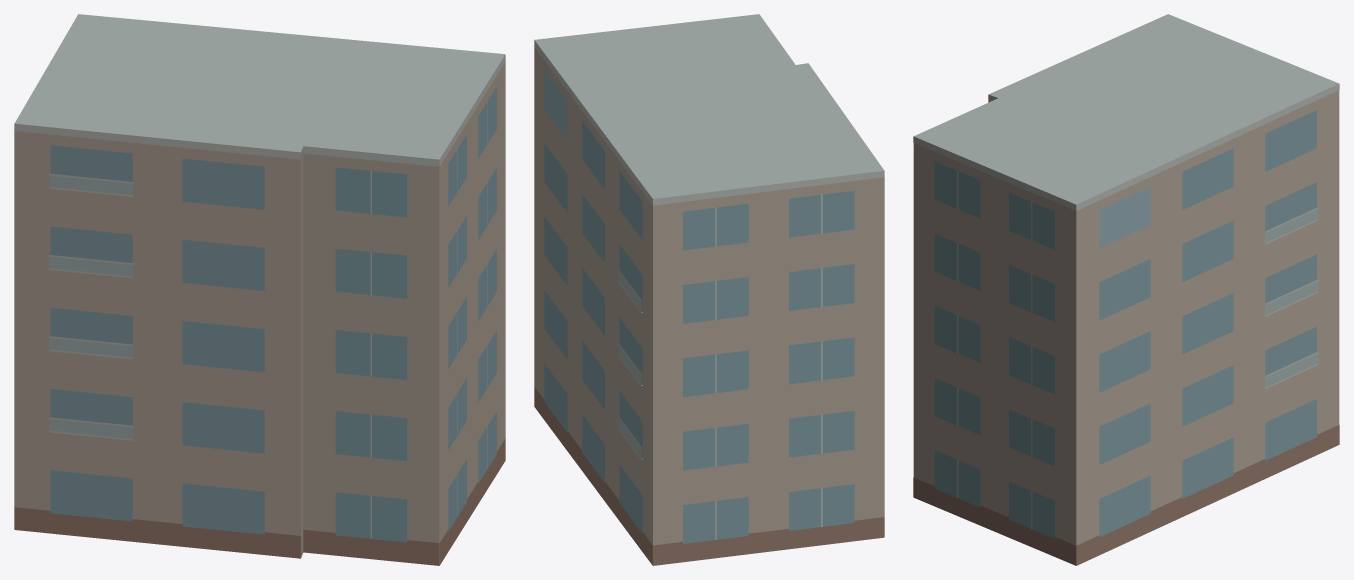
The model's file is survey-upis-32725973.glb.
3 views of the same model, side by side, from view 1: azimuth 30°, elevation 25°; view 2: azimuth 150°, elevation 25°; view 3: azimuth 270°, elevation 25° (orthographic). The views are drawn at different scales.
Visible parts, largest first — view 1: survey-upis-32725973.tmp; view 2: survey-upis-32725973.tmp; view 3: survey-upis-32725973.tmp.
Part boxes in pixels (x1,y1,x2,y2): survey-upis-32725973.tmp: (14,14,505,565); survey-upis-32725973.tmp: (534,14,884,565); survey-upis-32725973.tmp: (913,14,1339,565).
Size of the model in its own units: 15.46 by 13.65 by 14.6.
